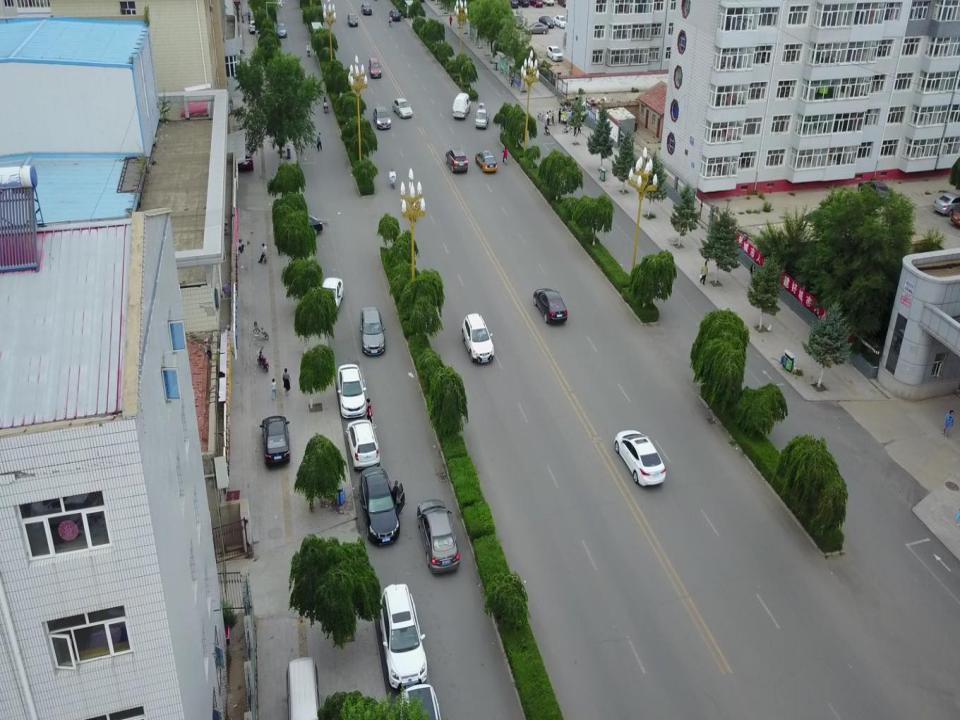car: (379, 584, 428, 691), (358, 466, 404, 546), (416, 498, 460, 574), (614, 430, 666, 488), (345, 420, 381, 472), (462, 312, 494, 364), (337, 363, 366, 420), (398, 683, 441, 720), (260, 415, 290, 468), (534, 287, 568, 325), (360, 307, 386, 356), (317, 278, 344, 322), (284, 211, 322, 238), (858, 181, 896, 208), (932, 191, 960, 217), (445, 148, 468, 173), (475, 150, 498, 173), (392, 98, 413, 118), (373, 107, 391, 130), (236, 148, 253, 171), (546, 45, 564, 62), (525, 22, 549, 34), (554, 14, 568, 29), (538, 16, 554, 29), (276, 22, 287, 38), (389, 10, 402, 22), (347, 14, 359, 27), (361, 3, 372, 16), (249, 20, 259, 34), (530, 0, 543, 8), (508, 0, 519, 9), (518, 0, 530, 8), (558, 0, 570, 8), (541, 0, 554, 7)
truck: (474, 108, 490, 130)
van: (286, 656, 321, 720), (452, 92, 471, 120), (368, 57, 381, 79)
